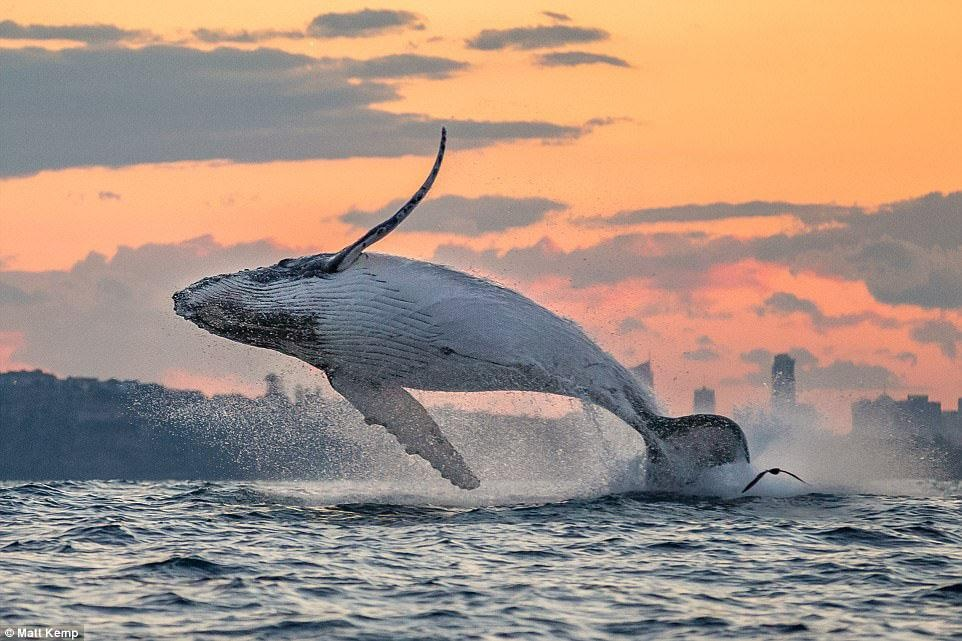bird: (741, 464, 811, 506)
fish: (161, 126, 747, 490)
